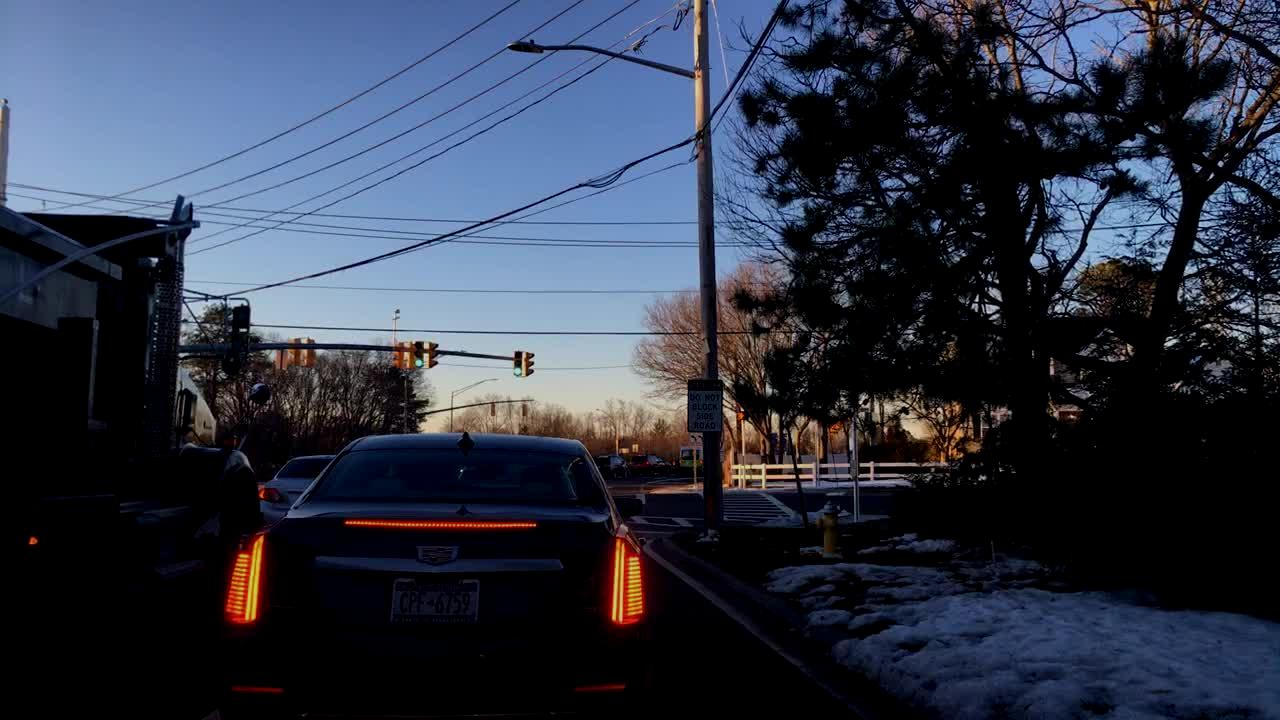cadillac: (411, 539, 465, 567)
